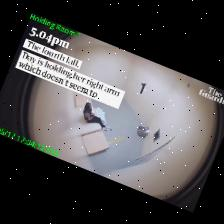person: (84, 103, 109, 130)
